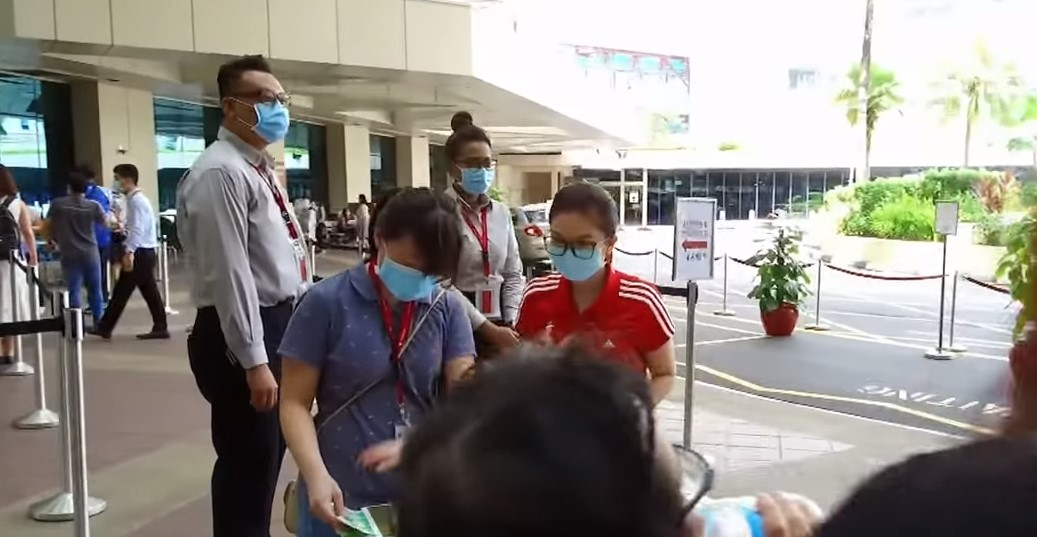face_with_mask: (369, 186, 458, 304), (542, 183, 623, 286), (223, 61, 294, 150), (443, 123, 497, 202), (108, 163, 137, 195)
